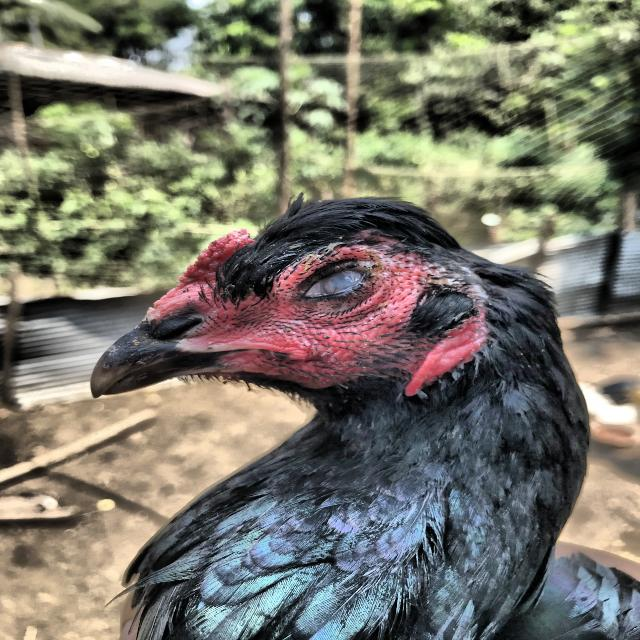Coryza: (72, 162, 640, 640)
